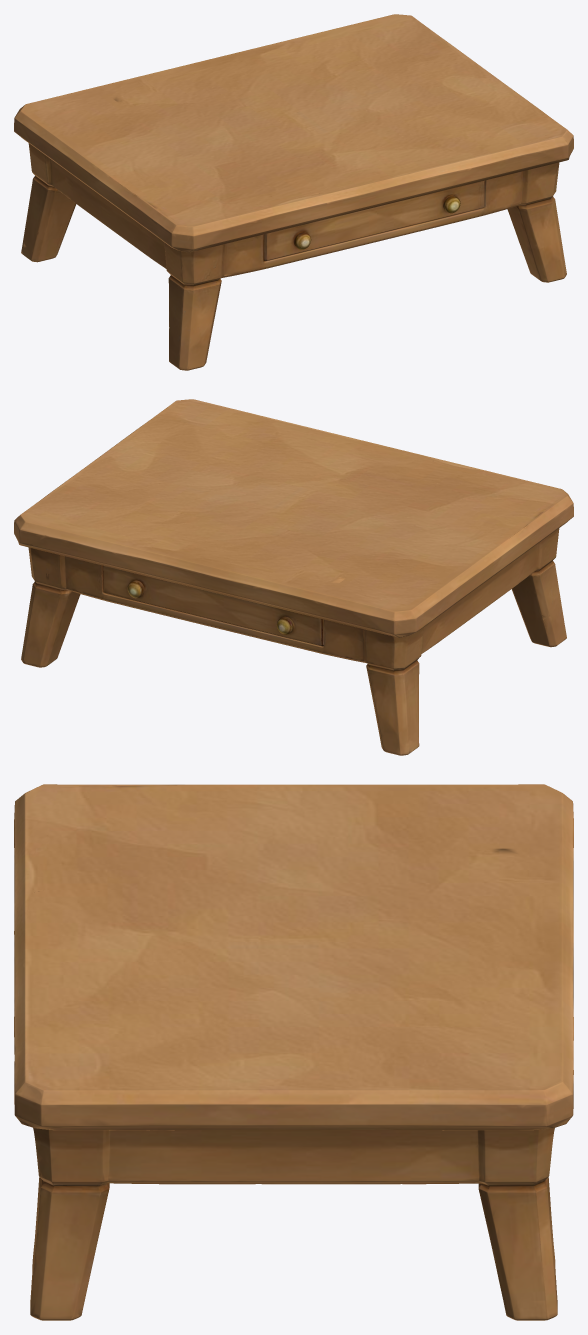
3 views of the same model, one above another, from view 1: azimuth 30°, elevation 25°; view 2: azimuth 150°, elevation 25°; view 3: azimuth 270°, elevation 25° (orthographic). The views are drawn at different scales.
Visible parts, largest first — view 1: node_0; view 2: node_0; view 3: node_0.
Boxes of the visible parts, box(x1,y1,x2,y2) form: node_0: box(14, 14, 573, 370); node_0: box(14, 399, 573, 755); node_0: box(14, 784, 573, 1320).
Bounding box in the file's own units: 0.9634 × 0.3315 × 0.7226.
1 material, 1 textured.
